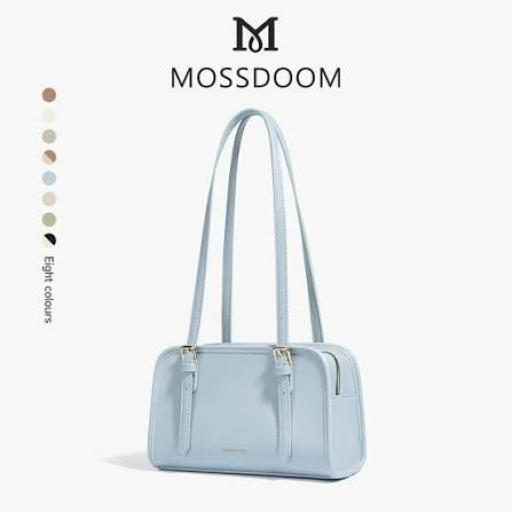tas sandang: (147, 106, 367, 482)
